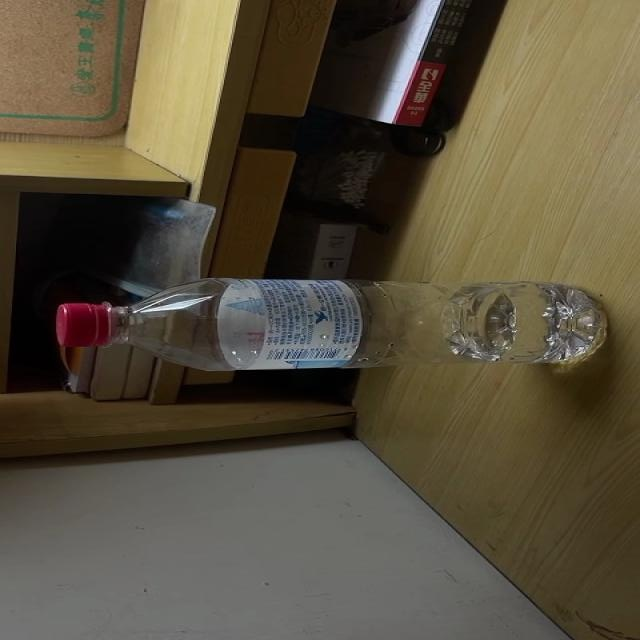Water: (58, 280, 608, 371)
